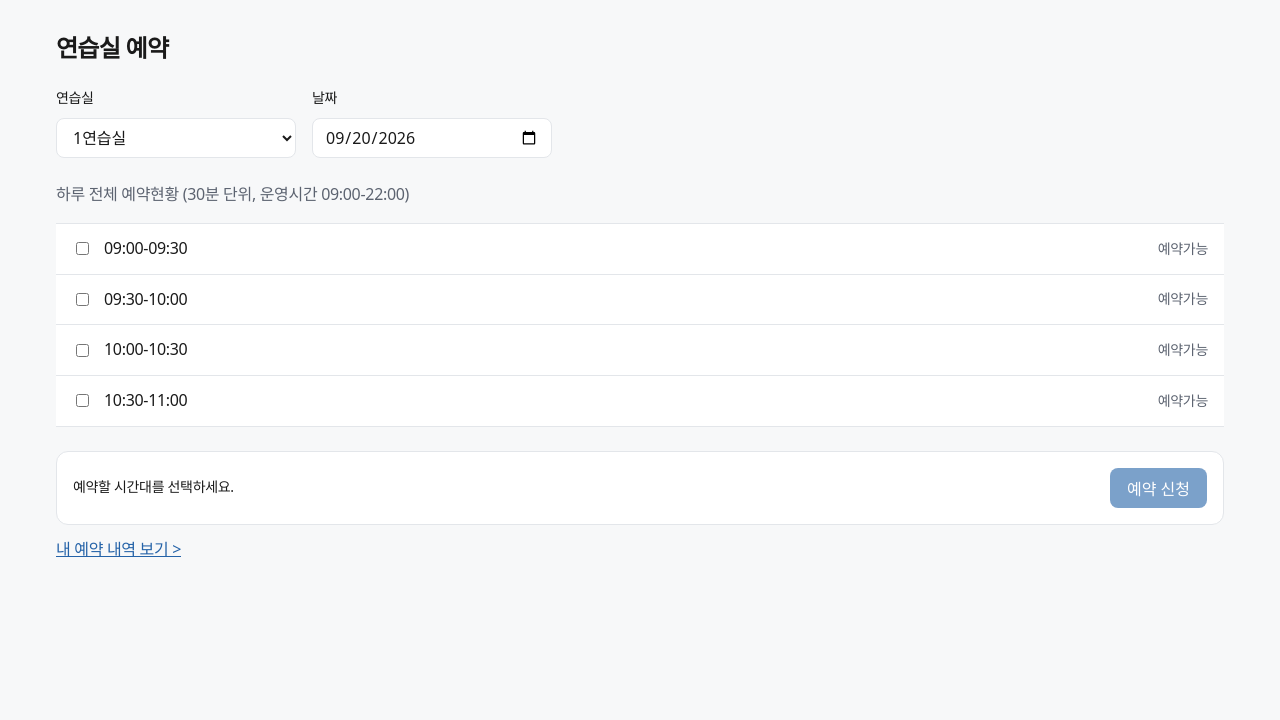
연속 슬롯 선택 › 날짜를 바꾸면 선택이 초기화된다
The width and height of the screenshot is (1280, 720).
Expected: the text "09:00-09:30" is shown, [104,236,187,262]
Click the checkbox labelled "09:00-09:30 예약가능" at coordinates (82, 249), box [76,242,89,256]
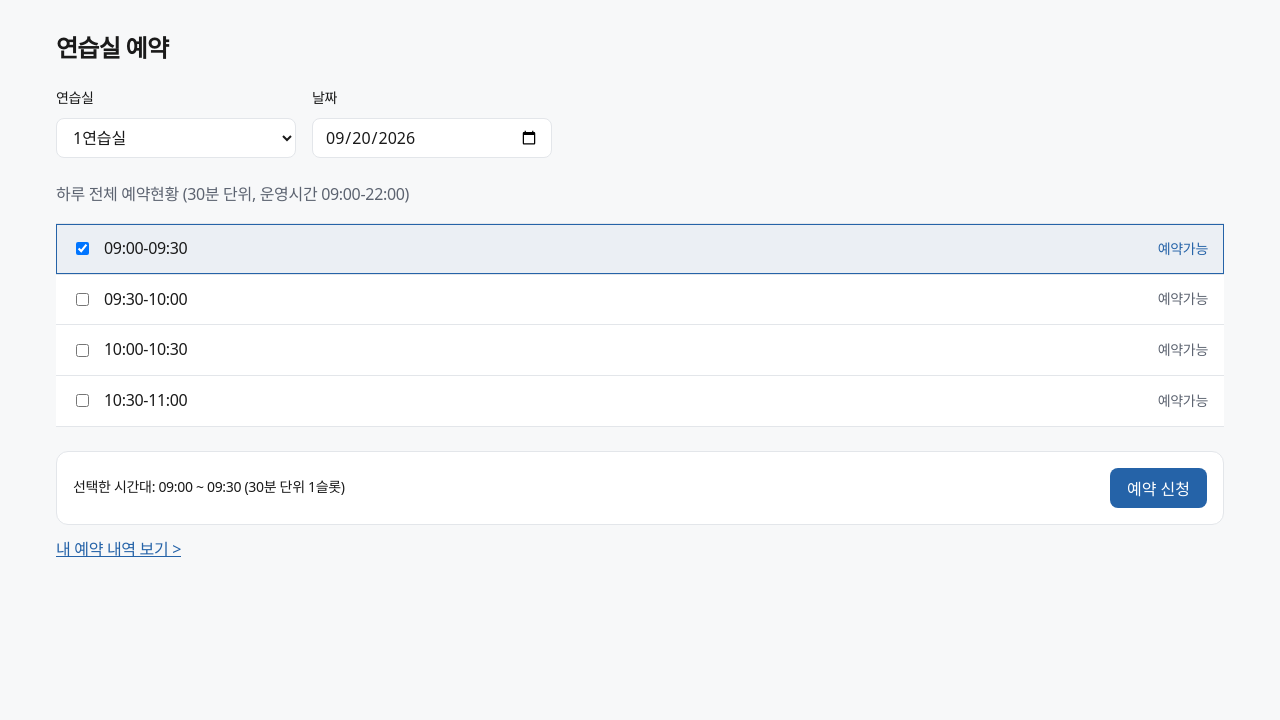
Now the text "선택한 시간대: 09:00 ~ 09:30 (30분 단위 1슬롯)" is shown, box [73,476,345,499]
Type "2026-09-21" into the date field labelled "날짜" at coordinates (432, 138), box [312,118,552,158]
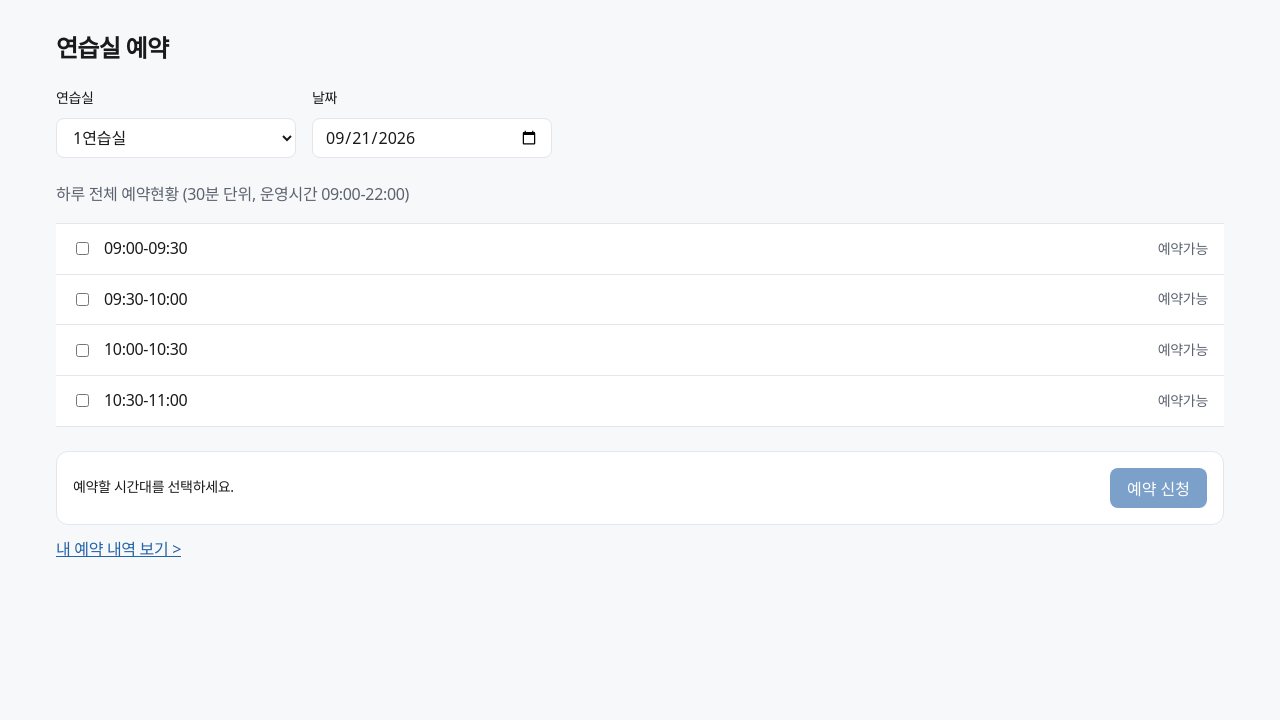
Now the text "예약할 시간대를 선택하세요." is shown, box [73,476,234,499]
